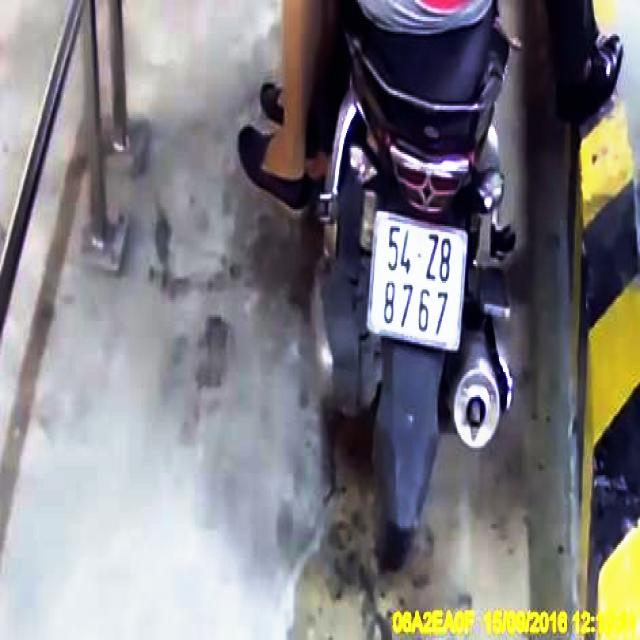license_plate: (372, 217, 465, 342)
